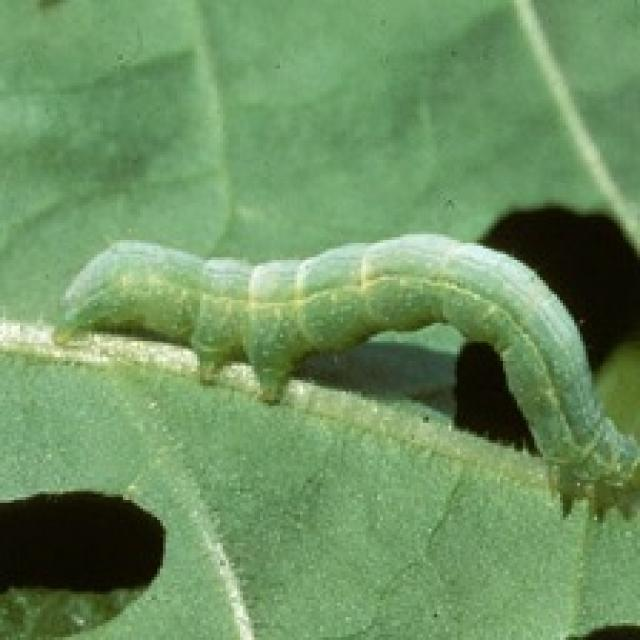Cabbage-worm: (61, 214, 640, 507)
